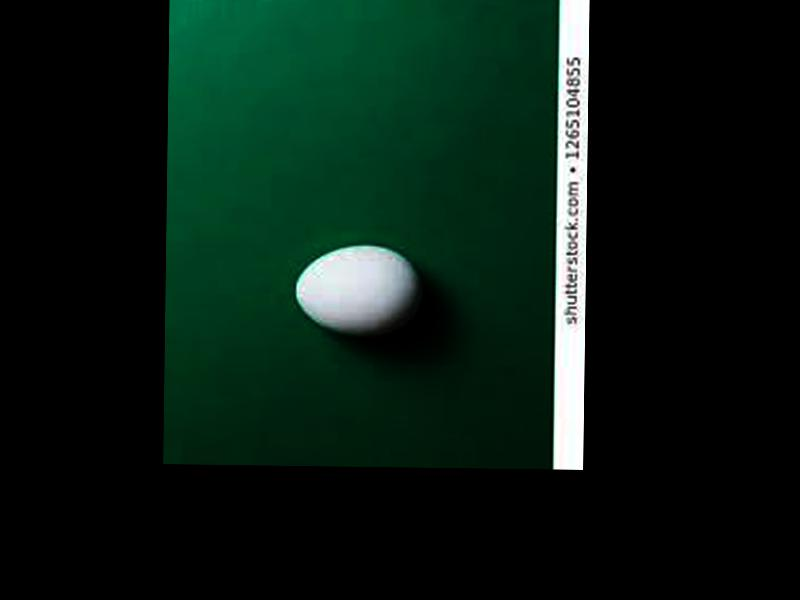Eggs: (295, 240, 423, 334)
